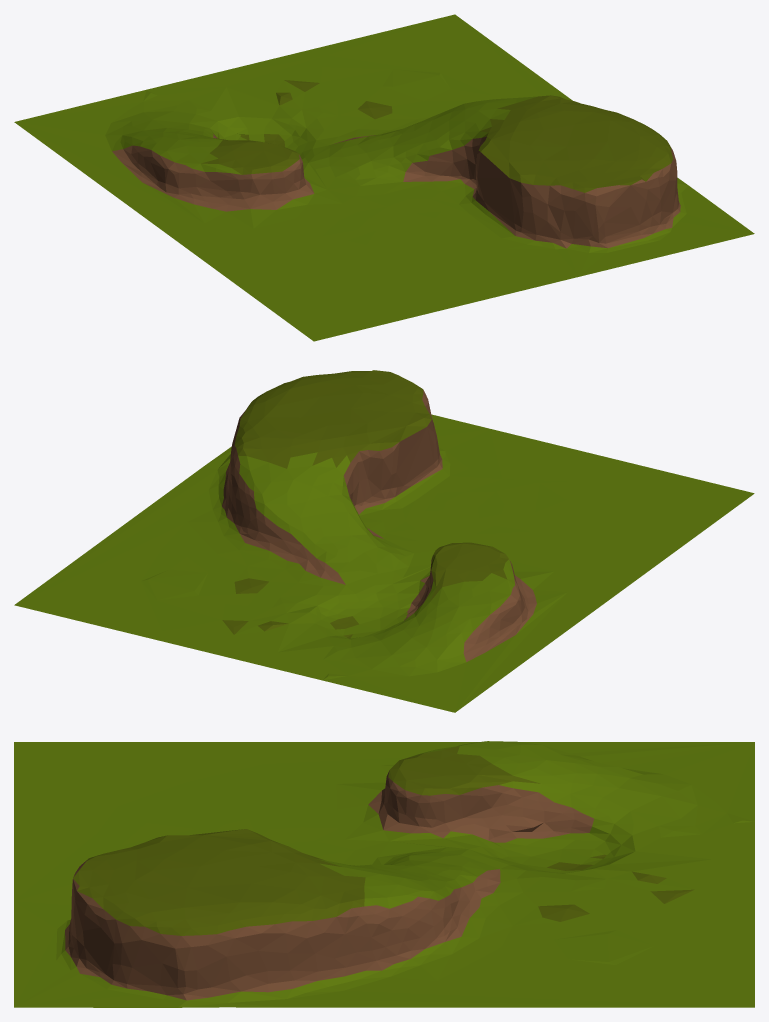
The model's file is Bioma2.fbx.
3 views of the same model, one above another, from view 1: azimuth 30°, elevation 25°; view 2: azimuth 150°, elevation 25°; view 3: azimuth 270°, elevation 25° (orthographic). The views are drawn at different scales.
Visible parts, largest first — view 1: Zone2; view 2: Zone2; view 3: Zone2.
Part boxes in pixels (x1,y1,x2,y2): Zone2: (14,14,754,341); Zone2: (14,370,754,712); Zone2: (14,741,754,1007).
Size of the model in its own units: 30913 by 4807 by 36400.
